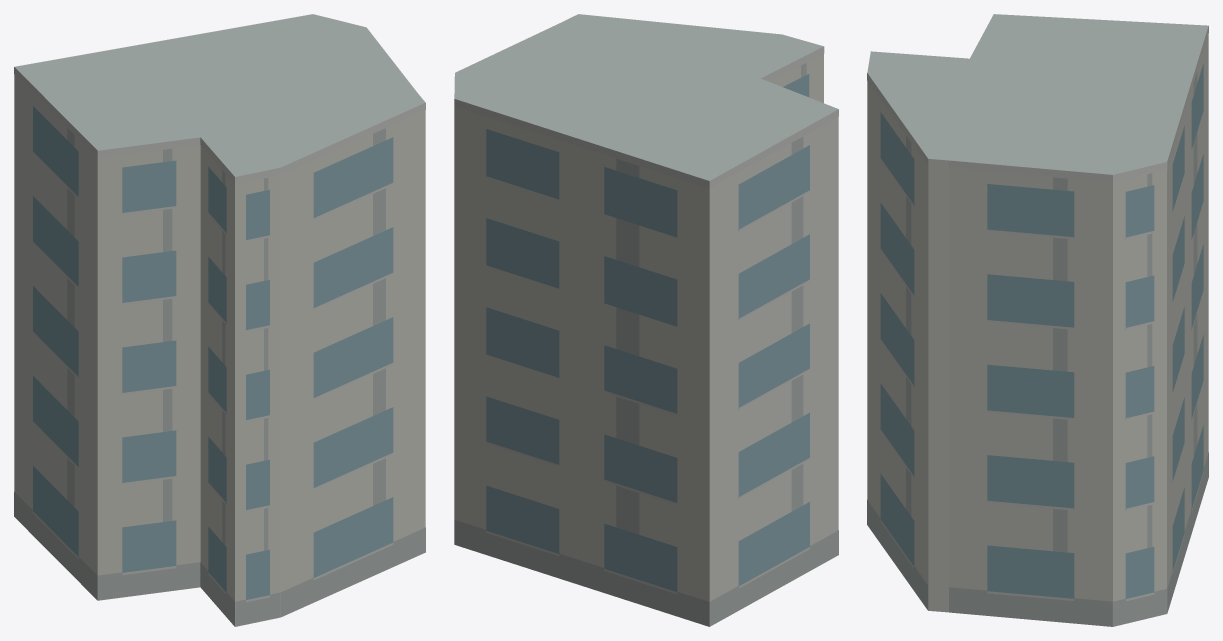
File: survey-upis-32527704.glb
3 renders of one model, left to right at view 1: azimuth 30°, elevation 25°; view 2: azimuth 150°, elevation 25°; view 3: azimuth 270°, elevation 25°, orthographic.
Parts seen in each view (by area): view 1: survey-upis-32527704.tmp; view 2: survey-upis-32527704.tmp; view 3: survey-upis-32527704.tmp.
Part boxes in pixels (x1,y1,x2,y2): survey-upis-32527704.tmp: (14,14,425,626); survey-upis-32527704.tmp: (454,14,838,626); survey-upis-32527704.tmp: (867,14,1208,626).
Bounding box in the file's own units: 11 × 14.4 × 9.87.
